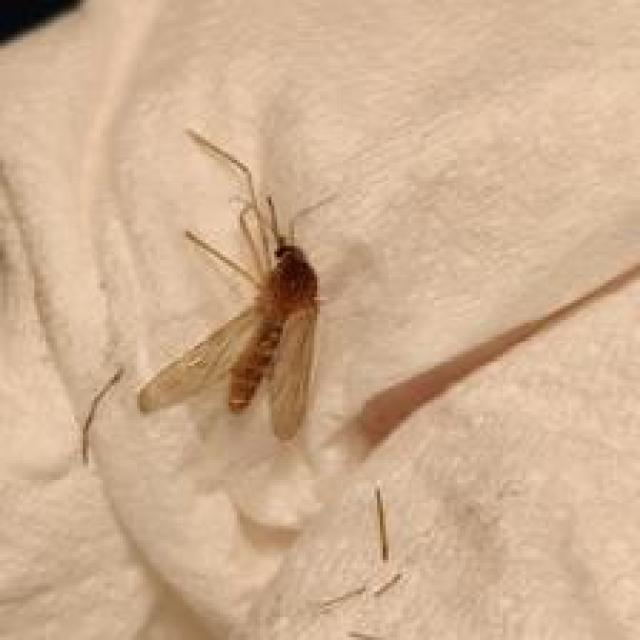Culex: (134, 126, 337, 443)
